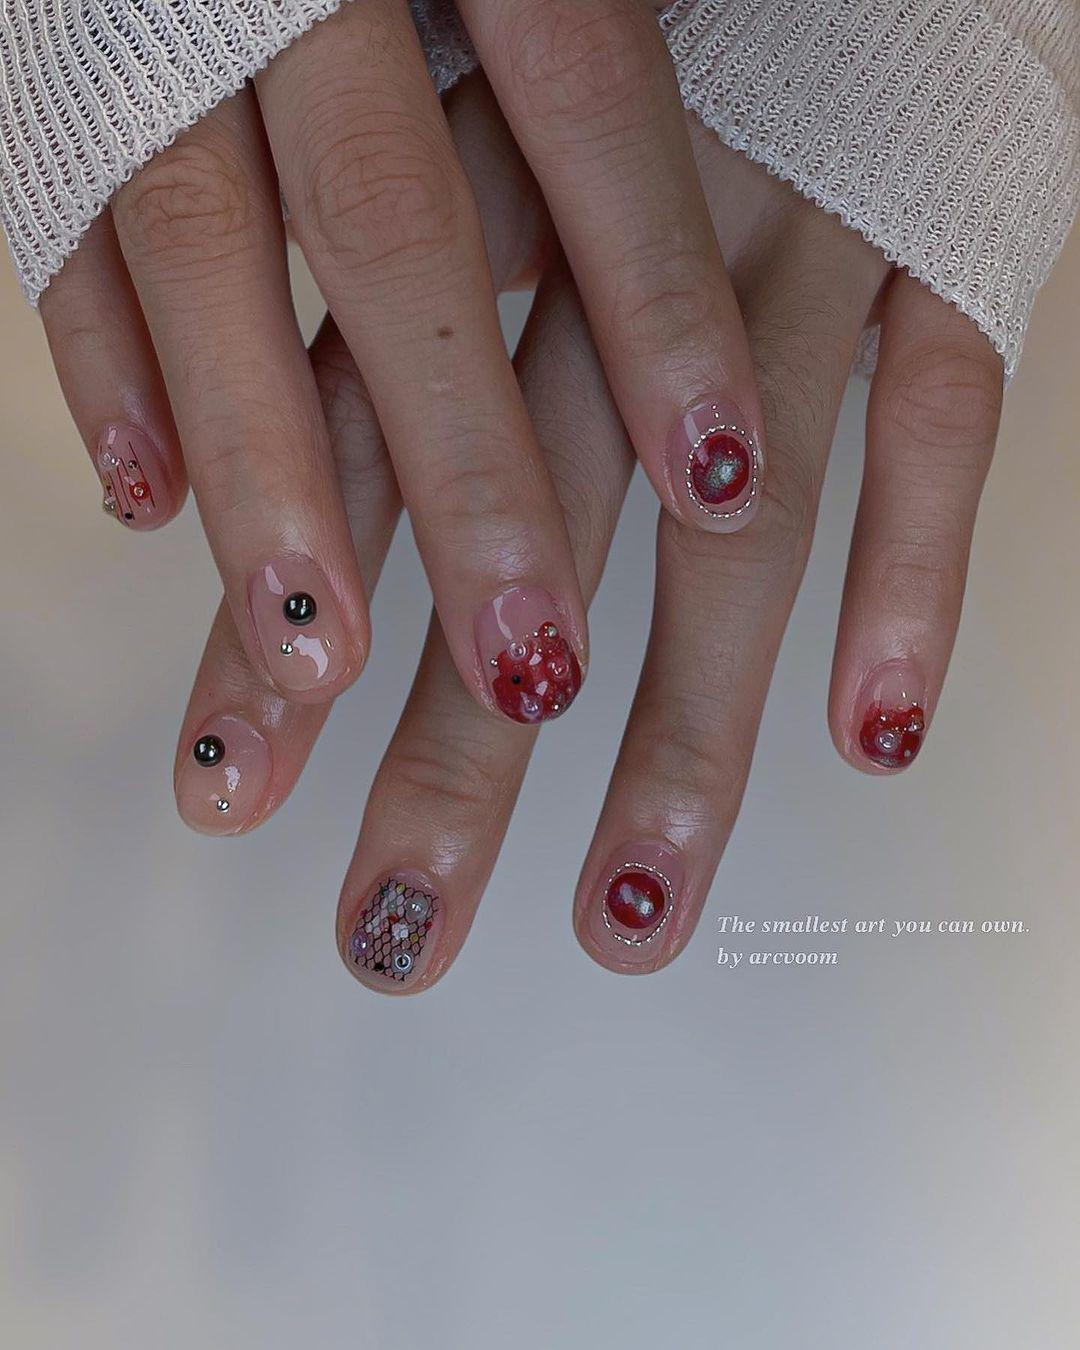nail: (244, 552, 354, 698), (472, 583, 584, 724), (664, 396, 764, 530), (172, 710, 273, 836), (344, 870, 441, 987), (94, 419, 174, 529), (851, 657, 928, 771), (600, 862, 671, 943)
